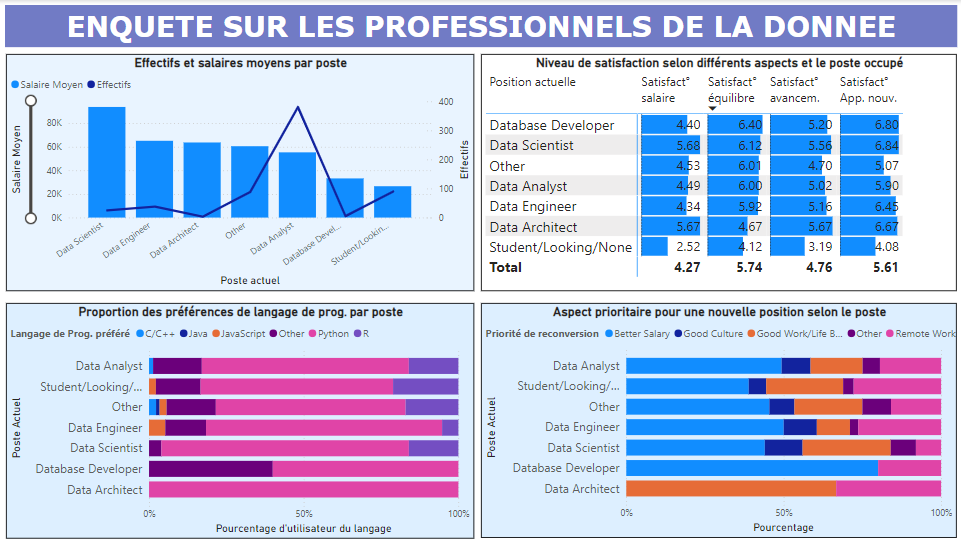

Layout of this report page (visuals, bound fields, positions):
{"tool":"powerbi","page":{"name":"Principaux résultats","canvas":[1280,720],"ordinal":1},"visuals":[{"type":"hundredPercentStackedBarChart","title":"Proportion des préférences de langage de prog. par poste","fields":{"Category":["Data Professional Survey.Q1 - Position Actuel"],"Y":["CountNonNull(Data Professional Survey.Q5 - Langage de Programmation préféré)"],"Series":["Data Professional Survey.Q5 - Langage de Programmation préféré"]},"box":[7.3,402.4,622,313.2],"z":0},{"type":"pivotTable","title":"Niveau de satisfaction selon différents aspects et le poste occupé","fields":{"Rows":["Data Professional Survey.Q1 - Position Actuel"],"Values":["Avg(Data Professional Survey.Q6A - A quel point Etes vous satisfait de votre salaire?)","Avg(Data Professional Survey.Q6B - A quel point Etes vous satisfait de votre équilibre viepriéé/vie professionnel?)","Avg(Data Professional Survey.Q6E - A quel point Etes vous satisfait de votre avancement?)","Avg(Data Professional Survey.Q6F - A quel point Etes vous satisfait du fait d'apprendre de nouvelles choses?)"]},"box":[639.5,71.7,632.2,314.6],"z":1000},{"type":"hundredPercentStackedBarChart","title":"Proportion des préférences de langage de prog. par poste","fields":{"Category":["Data Professional Survey.Q1 - Position Actuel"],"Y":["CountNonNull(Data Professional Survey.Q8 - Si vous recherchiez un nouvel position, quel serait votre priorité?)"],"Series":["Data Professional Survey.Q8 - Si vous recherchiez un nouvel position, quel serait votre priorité?"]},"box":[639.5,402.4,632.2,311.7],"z":2000},{"type":"lineClusteredColumnComboChart","title":"Effectifs et salaires moyens par poste","fields":{"Category":["Data Professional Survey.Q1 - Position Actuel"],"Y2":["CountNonNull(Data Professional Survey.Salaire Moyen)"],"Y":["Avg(Data Professional Survey.Salaire Moyen)"]},"box":[7.3,71.7,622,314.6],"z":3000},{"type":"textbox","box":[6.9,6.9,1264.9,56.4],"z":4000}]}

Visuals, with their boxes in screenshot pixels (x1, y1, x2, y2), scaled from the page's 1280x720 canvas onto the 961x542 screenshot:
"Proportion des préférences de langage de prog. par poste" hundredPercentStackedBarChart: locate(5, 303, 472, 539)
"Niveau de satisfaction selon différents aspects et le poste occupé" pivotTable: locate(480, 54, 955, 291)
"Proportion des préférences de langage de prog. par poste" hundredPercentStackedBarChart: locate(480, 303, 955, 538)
"Effectifs et salaires moyens par poste" lineClusteredColumnComboChart: locate(5, 54, 472, 291)
textbox: locate(5, 5, 955, 48)
